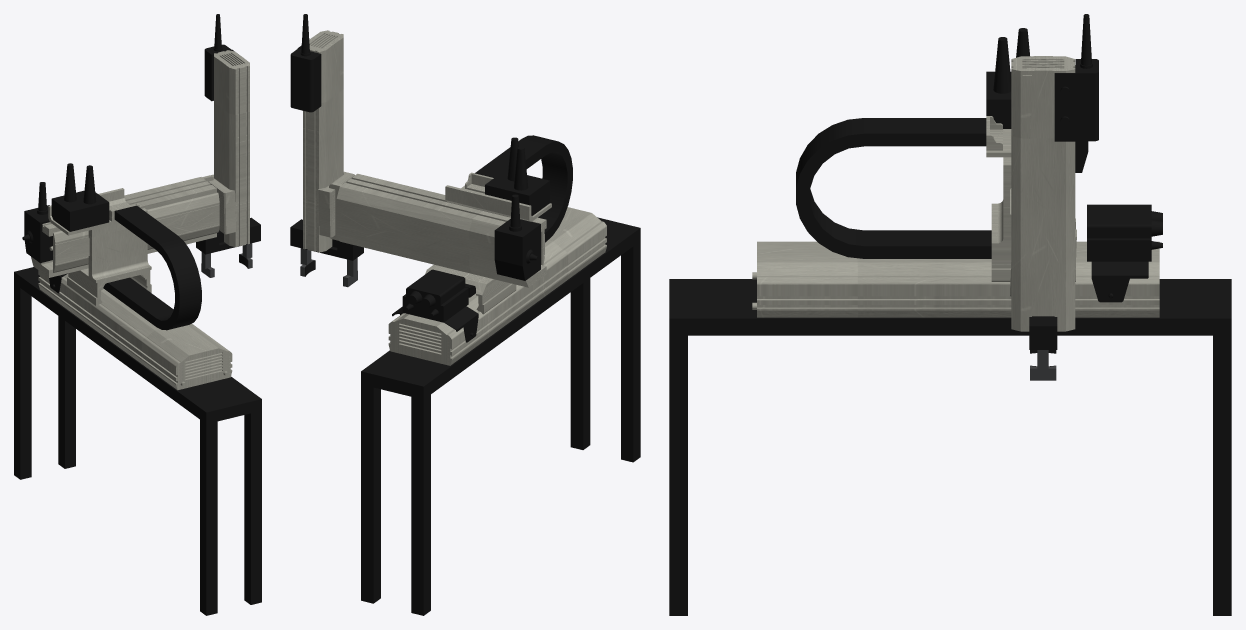
File: Pick_and_Place_Robot_Jaw.glb
3 views of the same model, side by side, from view 1: azimuth 30°, elevation 25°; view 2: azimuth 150°, elevation 25°; view 3: azimuth 270°, elevation 25° (orthographic). The views are drawn at different scales.
Visible parts, largest first — view 1: color-8.002, PP_Machine_Floating_X_Rebuilt, color-9.002, color-5[5], color.003, PP_Floating_X_Bodies, color-5.002, color[1].001, PP_Gripper; view 2: color-8.002, color-5[5], color-9.002, PP_Machine_Floating_X_Rebuilt, color.003, color-9[1], color-5.002, color[1].001, PP_Floating_X_Bodies, PP_Gripper; view 3: color-8.002, color-9.002, color.003, PP_Machine_Floating_X_Rebuilt, color-9[1], color[1].001, PP_Floating_X_Bodies, PP_Gripper.
Boxes of the visible parts, box(x1,y1,x2,y2) form: color-8.002: box(14, 267, 261, 615); PP_Machine_Floating_X_Rebuilt: box(48, 163, 201, 330); color-9.002: box(38, 270, 232, 390); color-5[5]: box(31, 174, 236, 277); color.003: box(214, 50, 249, 247); PP_Floating_X_Bodies: box(51, 165, 109, 231); color-5.002: box(24, 205, 52, 263); color[1].001: box(204, 14, 234, 101); PP_Gripper: box(196, 217, 260, 254); color-8.002: box(361, 217, 640, 615); color-5[5]: box(318, 171, 546, 287); color-9.002: box(388, 207, 606, 365); PP_Machine_Floating_X_Rebuilt: box(425, 135, 572, 314); color.003: box(303, 30, 343, 252); color-9[1]: box(392, 269, 478, 342); color-5.002: box(494, 219, 540, 280); color[1].001: box(290, 14, 321, 112); PP_Floating_X_Bodies: box(485, 137, 549, 215); PP_Gripper: box(290, 219, 363, 260); color-8.002: box(669, 279, 1231, 615); color-9.002: box(752, 241, 1159, 317); color.003: box(1011, 56, 1075, 331); PP_Machine_Floating_X_Rebuilt: box(796, 28, 1075, 281); color-9[1]: box(1087, 204, 1162, 302); color[1].001: box(1054, 14, 1098, 141); PP_Floating_X_Bodies: box(986, 37, 1011, 128); PP_Gripper: box(1029, 316, 1057, 349).
Bounding box in the file's own units: 0.4028 × 0.79 × 0.6.
Materials: 4 (1 with a texture image).
